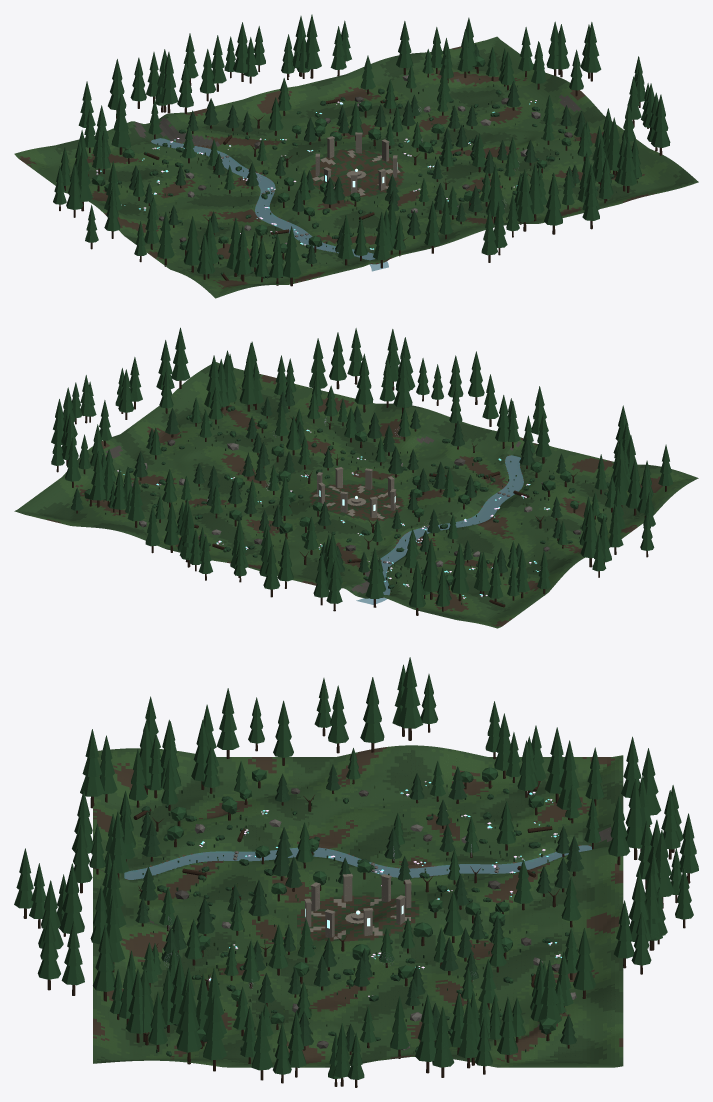
Rendered from forest.glb.
3 renders of one model, top to bottom at view 1: azimuth 30°, elevation 25°; view 2: azimuth 150°, elevation 25°; view 3: azimuth 270°, elevation 25°, orthographic. The views are drawn at different scales.
Parts seen in each view (by area): view 1: ground, env_water_creek, forest_far.018, forest_far.009, forest_far.077, forest_far.023, forest_far.030, forest_far.055, forest_far.061, forest_far.092, forest_far.062, forest_far.017 (+17 smaller); view 2: ground, env_water_creek, forest_far.018, forest_far.043, forest_far.062, forest_far.023, forest_far.021, forest_far.109, forest_far.085, forest_far.098, forest_far.002, forest_far.044 (+6 smaller); view 3: ground, env_water_creek, forest_far.018, forest_far.043, forest_far.077, forest_far.055, forest_far.031, forest_far.059, forest_far.032, forest_far.061, forest_far.038, forest_far.002 (+29 smaller).
Boxes of the visible parts, x1,y1,x2,y2 form: ground: (14,36,698,298); env_water_creek: (151,138,388,271); forest_far.018: (651,94,670,155); forest_far.009: (544,172,562,234); forest_far.077: (517,169,534,231); forest_far.023: (111,94,130,154); forest_far.030: (305,14,321,78); forest_far.055: (283,226,301,286); forest_far.061: (582,22,601,81); forest_far.092: (162,52,177,113); forest_far.062: (486,164,504,223); forest_far.017: (183,216,199,272); ground: (14,362,698,628); env_water_creek: (356,455,523,604); forest_far.018: (171,327,190,388); forest_far.043: (580,504,597,567); forest_far.062: (393,355,412,413); forest_far.023: (423,539,439,599); forest_far.021: (354,353,373,412); forest_far.109: (451,543,469,601); forest_far.085: (239,354,257,411); forest_far.098: (365,548,384,607); forest_far.002: (329,332,346,389); forest_far.044: (89,451,105,507); ground: (93,745,623,1067); env_water_creek: (124,845,591,879); forest_far.018: (176,982,202,1064); forest_far.043: (397,657,422,740); forest_far.077: (59,863,84,933); forest_far.055: (80,729,104,808); forest_far.031: (93,924,115,1001); forest_far.059: (360,677,384,752); forest_far.032: (203,994,226,1071); forest_far.061: (415,994,436,1073); forest_far.038: (37,915,60,990); forest_far.002: (61,921,84,995).
Size of the model in its own units: 213 by 28.27 by 168.
2 materials, 1 textured.
